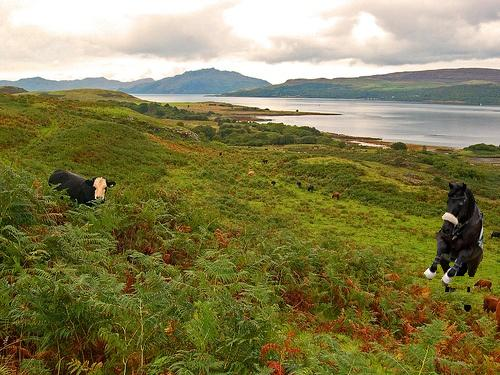tampered: (425, 183, 483, 312)
